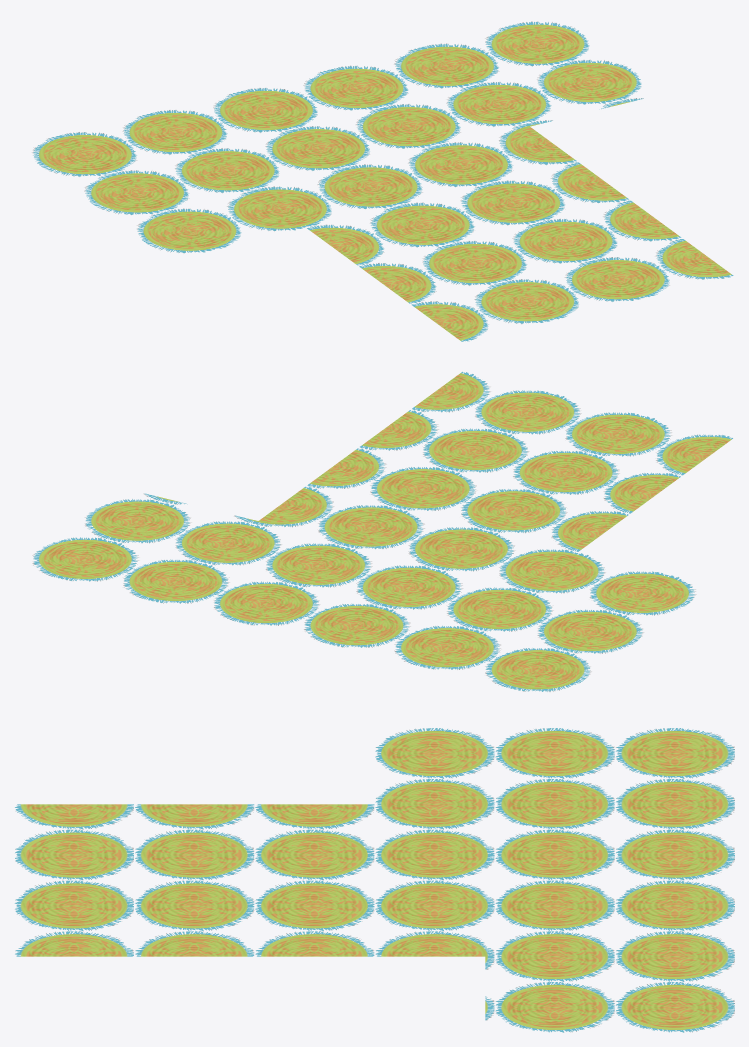
Rendered from PeaceFloor_LadderCut.fbx.
The picture shows the model from 3 angles, top to bottom: view 1: azimuth 30°, elevation 25°; view 2: azimuth 150°, elevation 25°; view 3: azimuth 270°, elevation 25°; orthographic projection. The views are drawn at different scales.
Visible parts, largest first — view 1: PeaceFloor_LadderCut; view 2: PeaceFloor_LadderCut; view 3: PeaceFloor_LadderCut.
Part boxes in pixels (x1=…): PeaceFloor_LadderCut: x1=32, y1=21, x2=733, y2=341; PeaceFloor_LadderCut: x1=32, y1=371, x2=732, y2=691; PeaceFloor_LadderCut: x1=14, y1=728, x2=734, y2=1032.
Size of the model in its own units: 4 by 9.1e-13 by 4.
